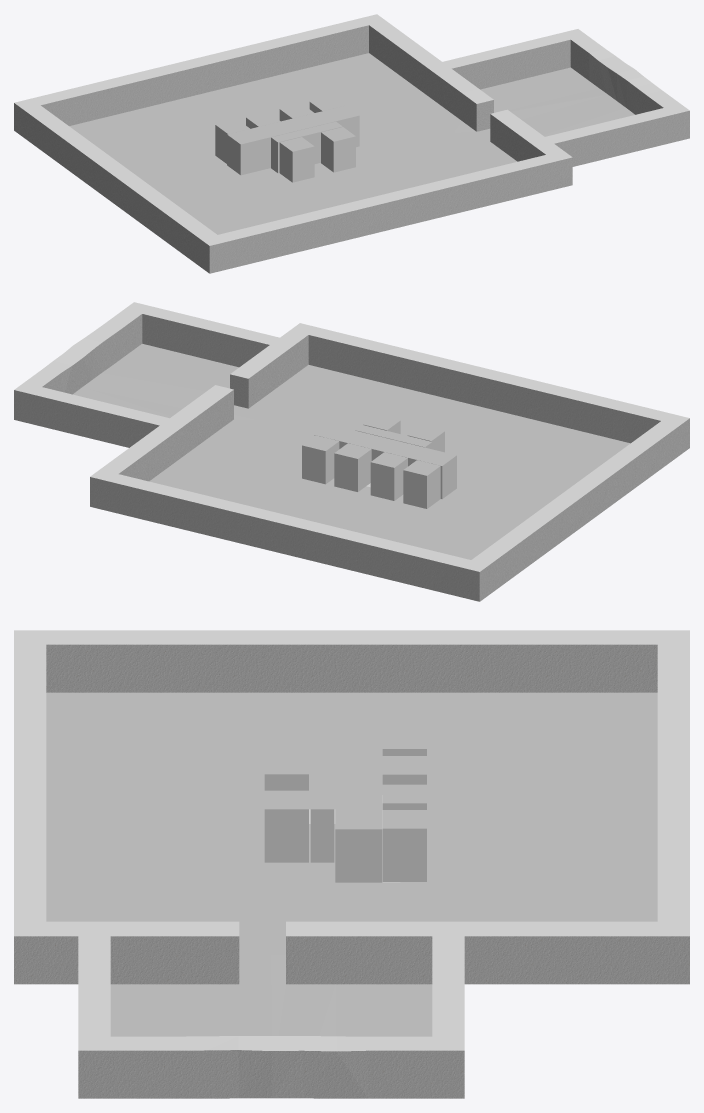
3 renders of one model, top to bottom at view 1: azimuth 30°, elevation 25°; view 2: azimuth 150°, elevation 25°; view 3: azimuth 270°, elevation 25°, orthographic. The views are drawn at different scales.
Parts seen in each view (by area): view 1: Aa(2); view 2: Aa(2); view 3: Aa(2).
Boxes of the visible parts, left/top/right/bottom form: Aa(2): left=14, top=14, right=689, bottom=273; Aa(2): left=14, top=302, right=689, bottom=601; Aa(2): left=14, top=630, right=689, bottom=1098.
Size of the model in its own units: 16.92 by 11.47 by 1.
